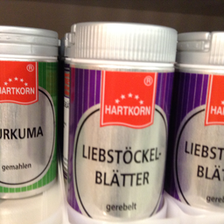spices: (64, 21, 177, 224), (1, 25, 61, 200)
